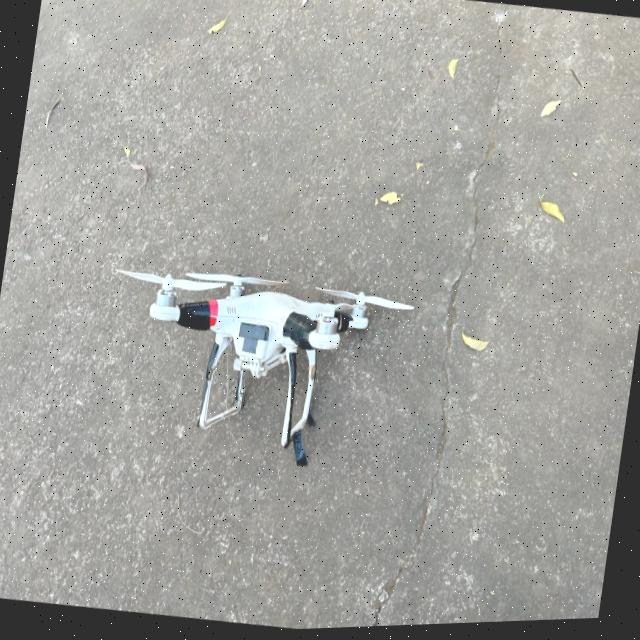drone: (72, 223, 430, 504)
